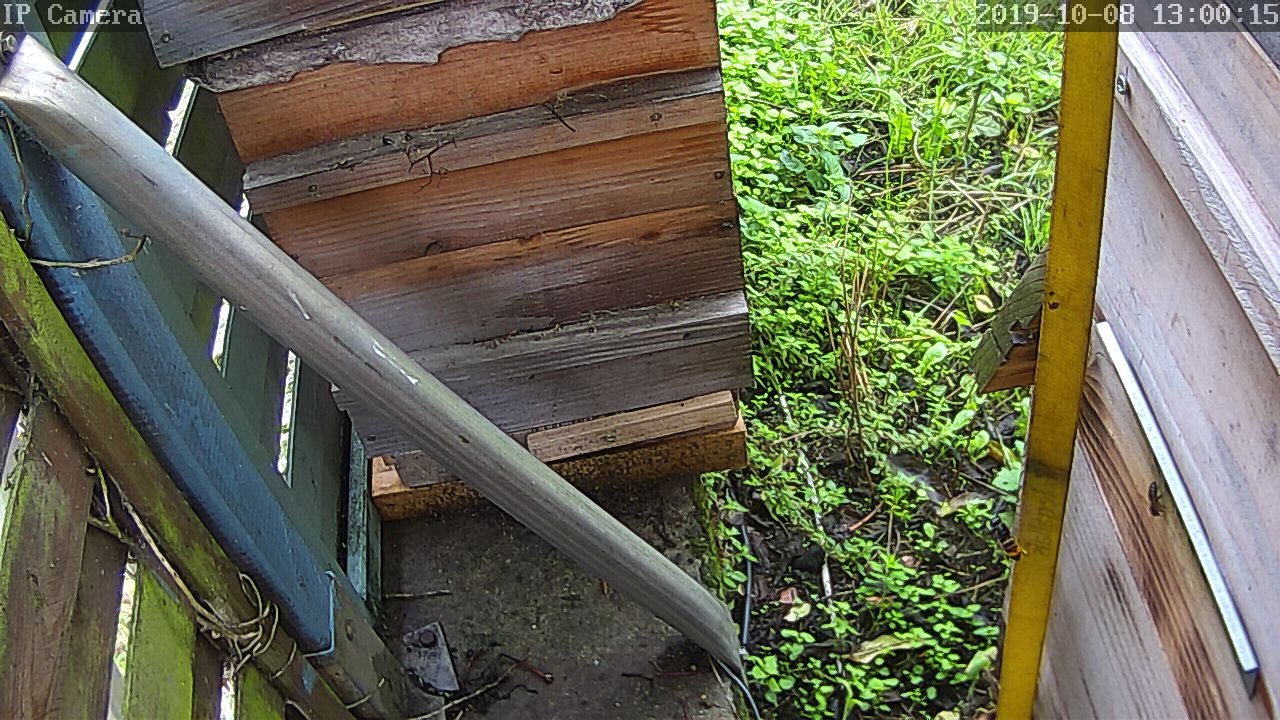hornet: (992, 516, 1024, 579), (1002, 326, 1037, 382)
